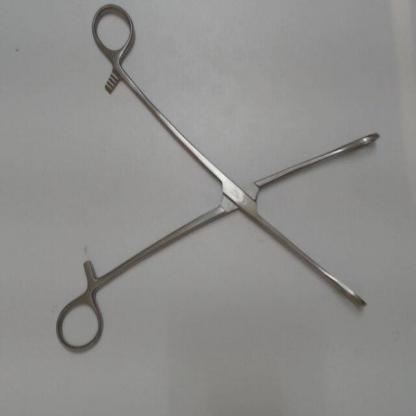Sponge Forceps: (52, 1, 389, 360)
